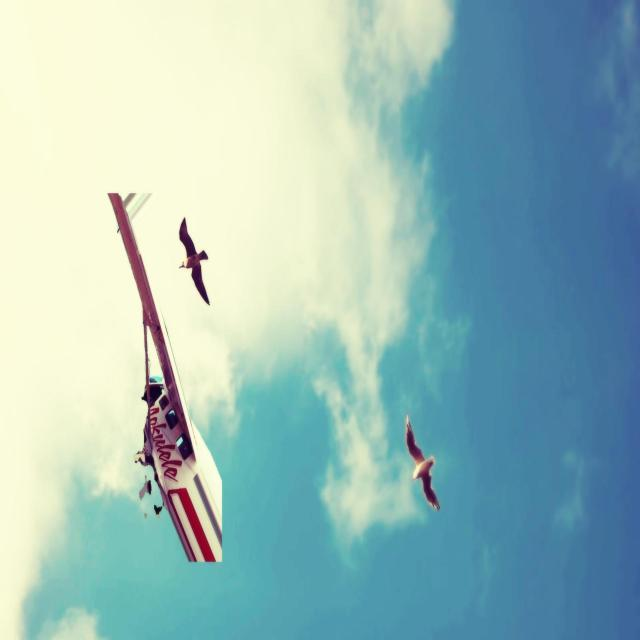airplane: (107, 190, 223, 563)
